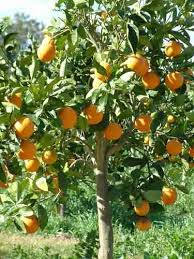orange: (125, 50, 150, 77), (129, 111, 154, 134), (16, 209, 39, 234), (81, 102, 105, 125), (12, 117, 36, 139), (57, 103, 78, 128), (102, 119, 123, 142), (165, 135, 185, 156), (160, 186, 181, 205), (35, 42, 56, 60), (133, 215, 153, 233), (132, 198, 151, 215)
